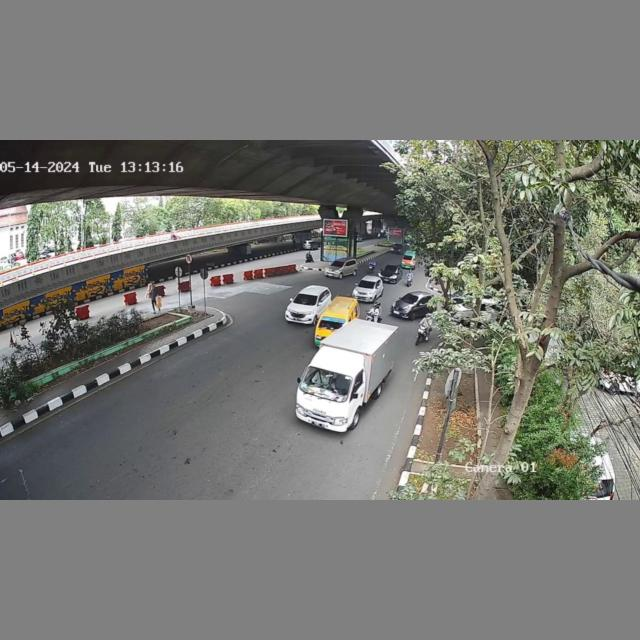windshield: (302, 367, 350, 399), (290, 291, 320, 307)
